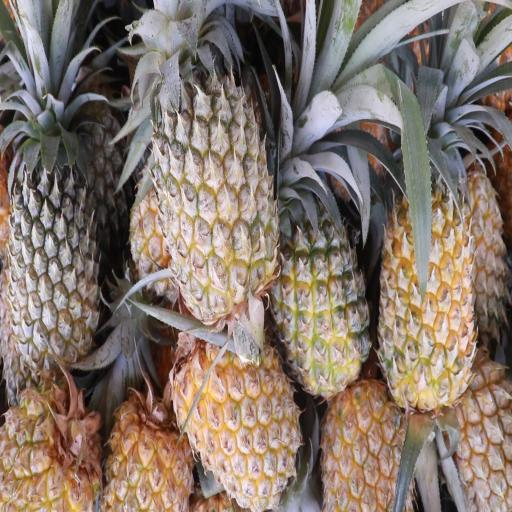------------------------------: (150, 5, 284, 339), (269, 154, 374, 407)
Pineapple - v8 v1: (375, 120, 482, 420), (170, 314, 305, 511), (0, 376, 110, 512), (316, 378, 418, 512), (103, 388, 202, 510), (445, 504, 451, 512)
